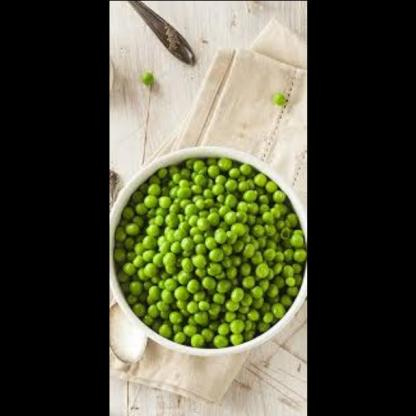peas: (116, 155, 304, 355), (133, 70, 157, 89), (271, 93, 285, 105)
